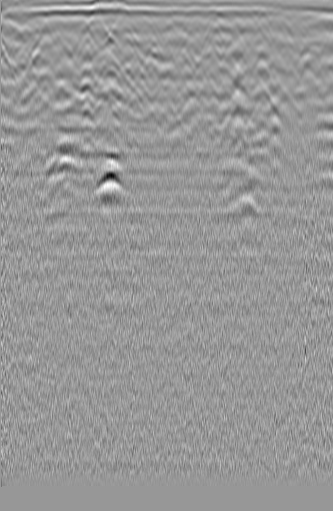가스: (91, 166, 125, 199)
상수: (9, 39, 37, 66)
오수: (290, 40, 324, 77)
우수: (138, 43, 166, 70)
